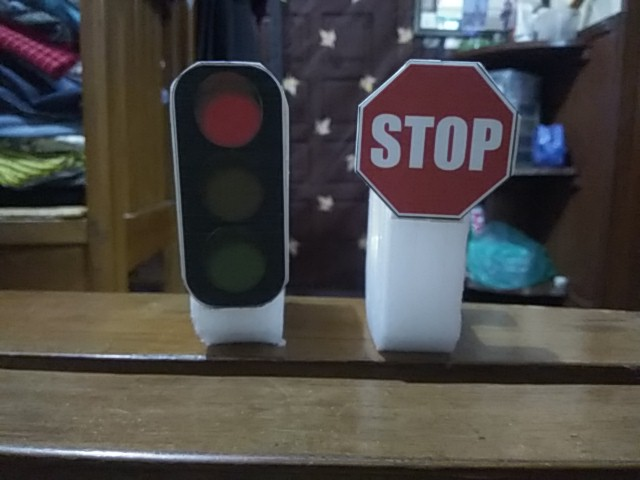Red Traffic Light: (170, 60, 289, 310)
Stop Sign: (356, 59, 519, 221)
